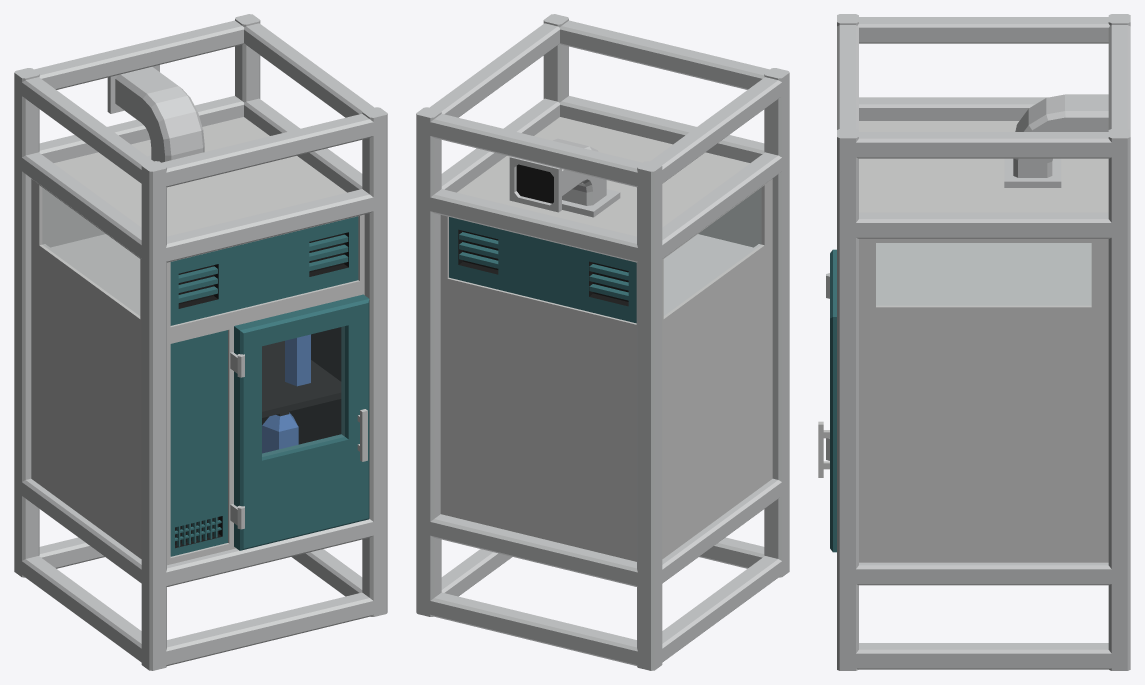
Rendered from vented-chemical-storage-cabinet-91b061.glb.
3 views of the same model, side by side, from view 1: azimuth 30°, elevation 25°; view 2: azimuth 150°, elevation 25°; view 3: azimuth 270°, elevation 25° (orthographic). The views are drawn at different scales.
Parts seen in each view (by area): view 1: vented-chemical-storage-cabinet, door, contents; view 2: vented-chemical-storage-cabinet; view 3: vented-chemical-storage-cabinet, door.
Part boxes in pixels (x1,y1,x2,y2): vented-chemical-storage-cabinet: [14, 14, 387, 670]; door: [234, 294, 369, 550]; contents: [262, 334, 310, 453]; vented-chemical-storage-cabinet: [416, 14, 789, 670]; vented-chemical-storage-cabinet: [826, 14, 1130, 670]; door: [818, 249, 836, 552].
Bounding box in the file's own units: 0.6 × 1.2 × 0.638.
